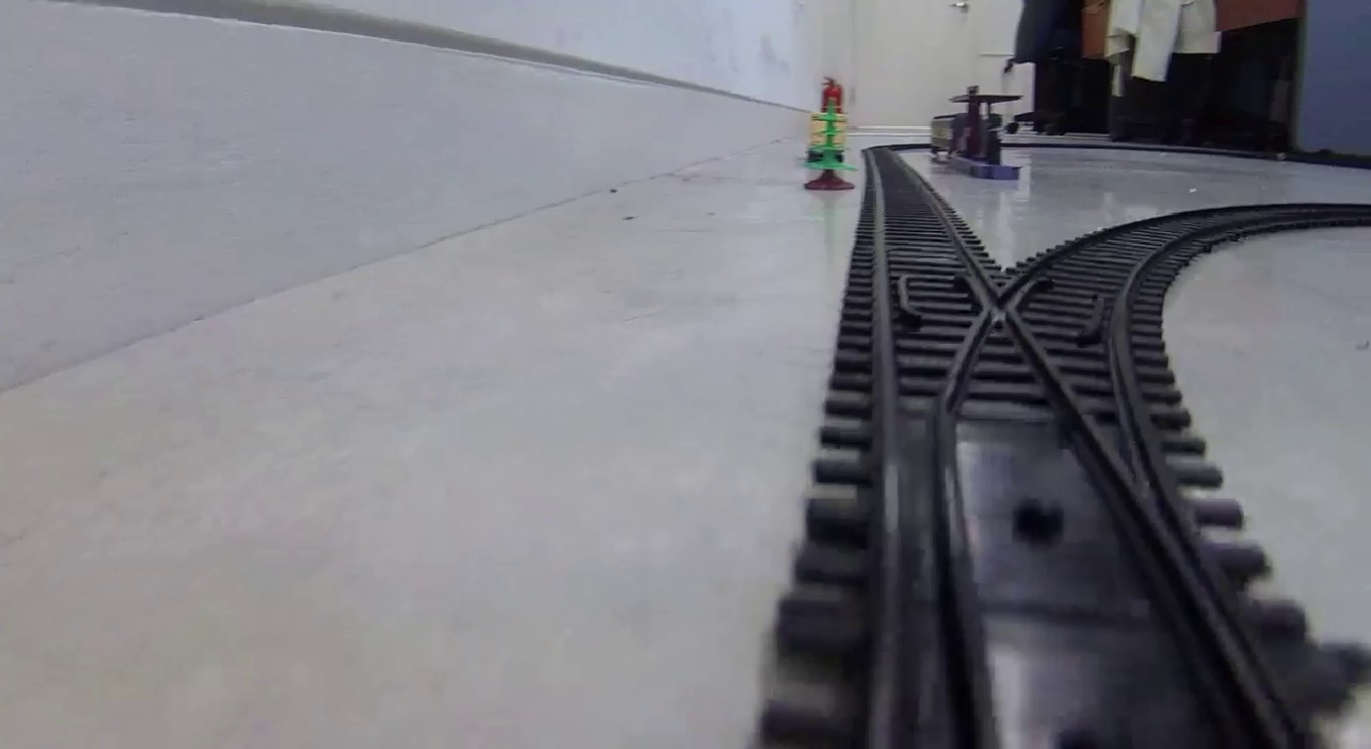tree: (808, 99, 856, 192)
